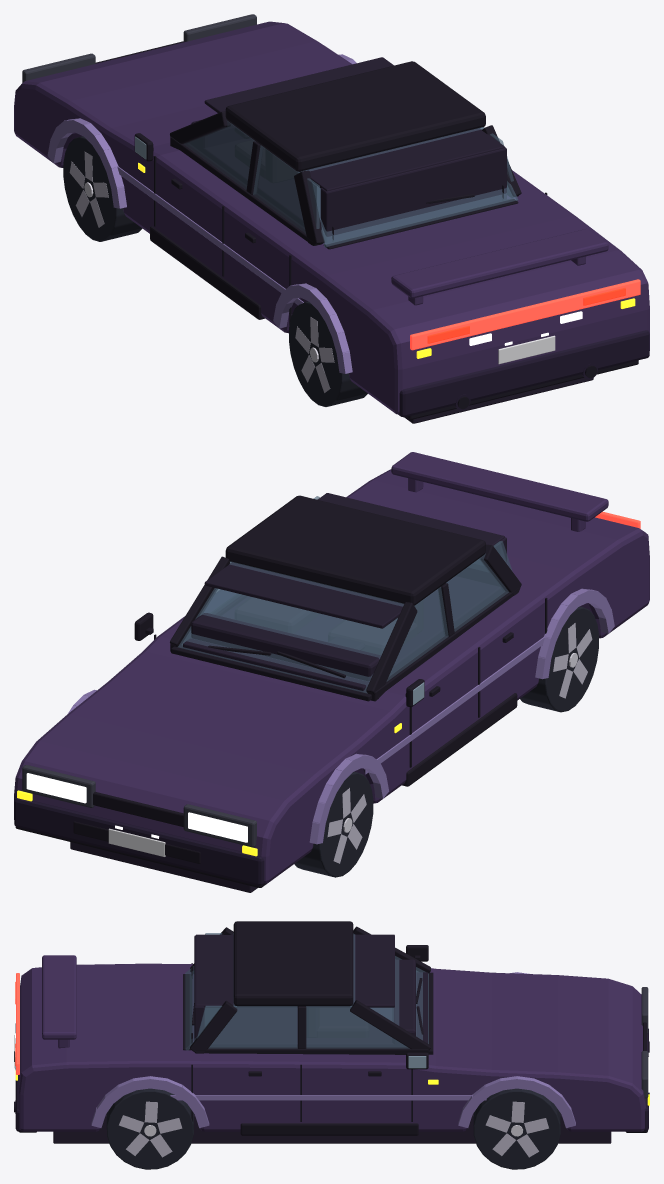
File: car_C.glb
3 views of the same model, one above another, from view 1: azimuth 30°, elevation 25°; view 2: azimuth 150°, elevation 25°; view 3: azimuth 270°, elevation 25° (orthographic). The views are drawn at different scales.
Visible parts, largest first — view 1: carC_bodyLower, carC_roof, carC_rearBulk, carC_bumperRear, carC_headliner, carC_spoilerBlade, carC_archLips, carC_rearGlass, carC_tyreFL, carC_tyreRL, carC_tailBar, carC_sideGlassRL (+16 smaller); view 2: carC_bodyLower, carC_roof, carC_windshield, carC_headliner, carC_bumperFront, carC_cabinFloor, carC_spoilerBlade, carC_dashboard, carC_archLips, carC_tyreFL, carC_tyreRL, carC_sideGlassRL (+22 smaller); view 3: carC_bodyLower, carC_roof, carC_headliner, carC_cabinFloor, carC_underbody, carC_tyreFR, carC_tyreRR, carC_archLips, carC_sideGlassRR, carC_sideGlassFR, carC_spoilerBlade, carC_skirtR (+17 smaller).
Part boxes in pixels (box(x1,y1,x2,y2)): carC_bodyLower: box(14, 21, 649, 414); carC_roof: box(225, 61, 485, 171); carC_rearBulk: box(320, 147, 506, 242); carC_bumperRear: box(398, 330, 649, 417); carC_headliner: box(204, 57, 504, 191); carC_spoilerBlade: box(391, 228, 608, 298); carC_archLips: box(47, 54, 356, 373); carC_rearGlass: box(299, 127, 517, 247); carC_tyreFL: box(63, 136, 142, 241); carC_tyreRL: box(289, 301, 367, 406); carC_tailBar: box(410, 279, 640, 350); carC_sideGlassRL: box(253, 145, 319, 233); carC_bodyLower: box(14, 469, 649, 883); carC_roof: box(225, 495, 485, 605); carC_windshield: box(178, 561, 403, 693); carC_headliner: box(204, 493, 504, 628); carC_bumperFront: box(14, 797, 264, 885); carC_cabinFloor: box(183, 576, 501, 691); carC_spoilerBlade: box(391, 452, 608, 521); carC_dashboard: box(191, 613, 381, 681); carC_archLips: box(68, 588, 614, 844); carC_tyreFL: box(294, 771, 373, 877); carC_tyreRL: box(520, 606, 598, 712); carC_sideGlassRL: box(446, 541, 512, 631); carC_bodyLower: box(18, 963, 645, 1131); carC_roof: box(233, 921, 353, 1006); carC_headliner: box(195, 934, 394, 1007); carC_cabinFloor: box(210, 972, 427, 1046); carC_underbody: box(53, 1113, 611, 1143); carC_tyreFR: box(473, 1088, 560, 1169); carC_tyreRR: box(106, 1088, 193, 1169); carC_archLips: box(91, 972, 575, 1128); carC_sideGlassRR: box(197, 1005, 297, 1048); carC_sideGlassFR: box(306, 1006, 409, 1048); carC_spoilerBlade: box(42, 955, 76, 1039); carC_skirtR: box(240, 1123, 418, 1135).
Bounding box in the file's own units: 1.97 × 1.34 × 4.79.
